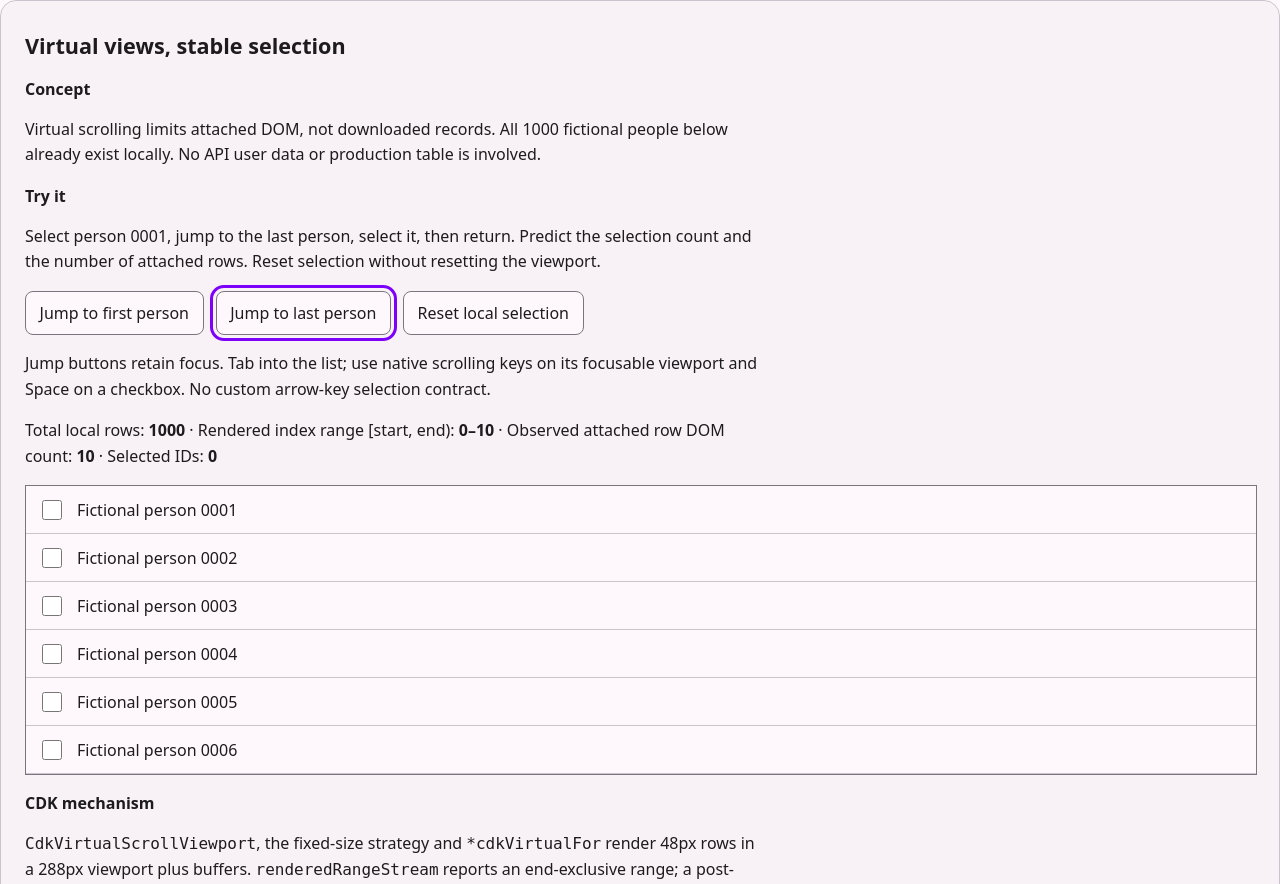
Test: VirtualPeopleExperimentComponent › uses a complete bounded fixture, fixed-height viewport and finite attached DOM with list semantics
expect the text "1000" is shown: met, box [149,419,185,441]
expect the list item "Fictional person 0001" is shown: met, box [26,486,1256,534]
Note: Subscribe before the native click: CDK delivers the scroll range on a real frame.
Click the button "Jump to last person": (303, 313) [216,291,391,335]
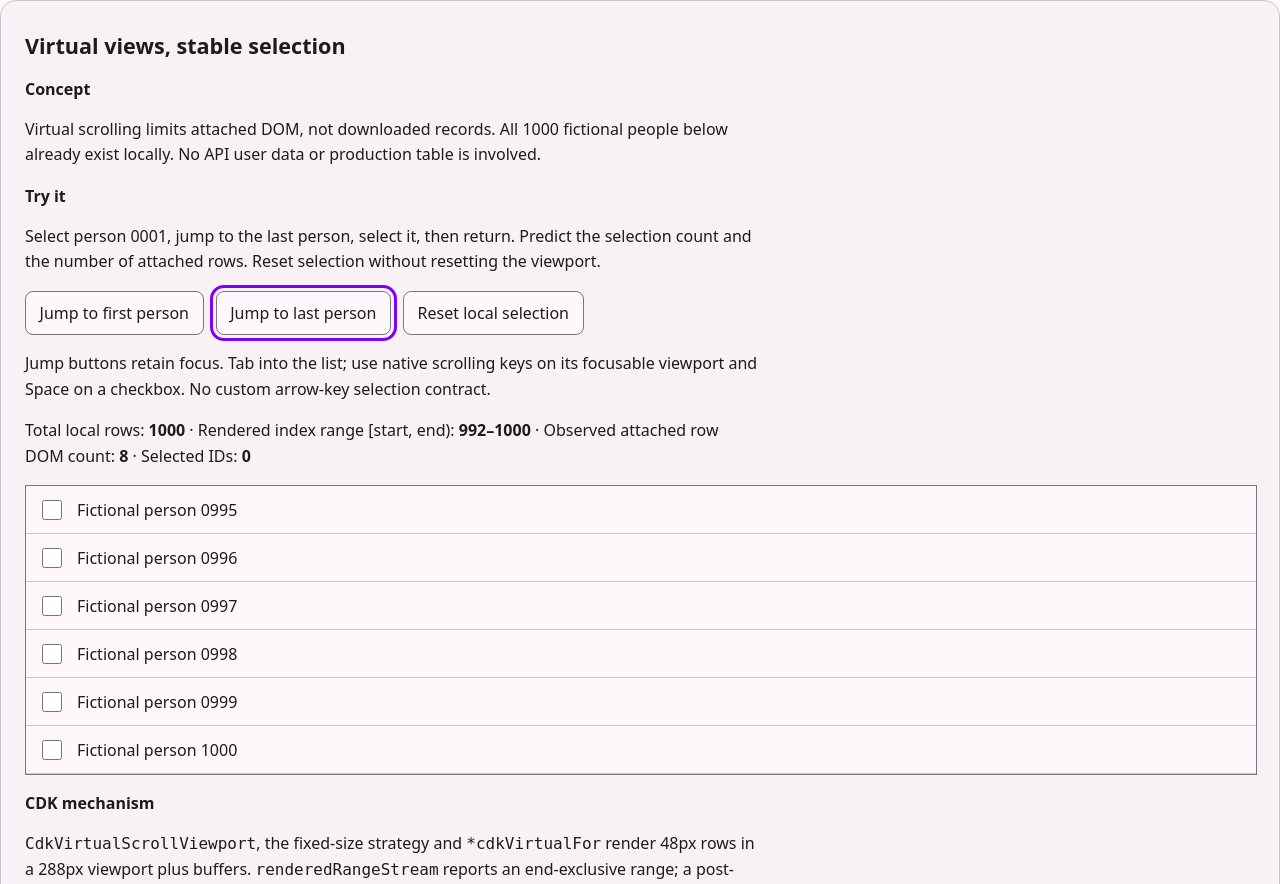
expect the text "8" is shown: met, box [119,445,128,467]
